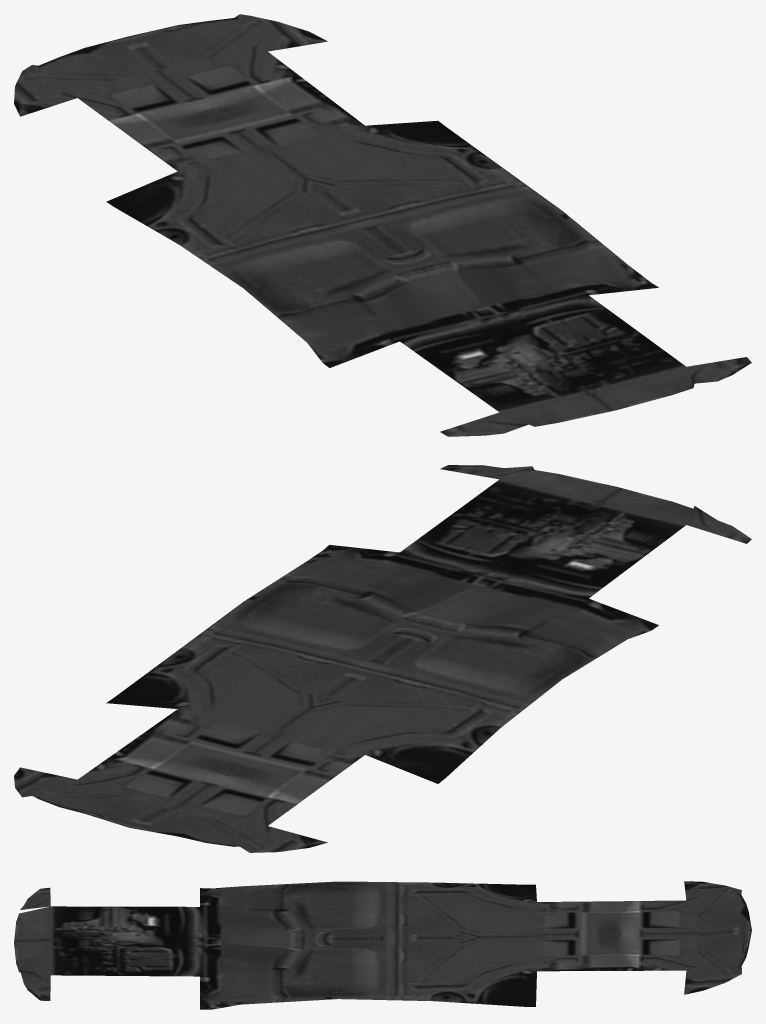
The model's file is 3Alt.fbx.
The picture shows the model from 3 angles, top to bottom: view 1: azimuth 30°, elevation 25°; view 2: azimuth 150°, elevation 25°; view 3: azimuth 270°, elevation 25°; orthographic projection. The views are drawn at different scales.
Visible parts, largest first — view 1: Object001; view 2: Object001; view 3: Object001.
Part boxes in pixels (x1,y1,x2,y2): Object001: (14,14,751,436); Object001: (14,465,751,852); Object001: (14,881,751,1009).
Size of the model in its own units: 1742 by 132 by 4434.
